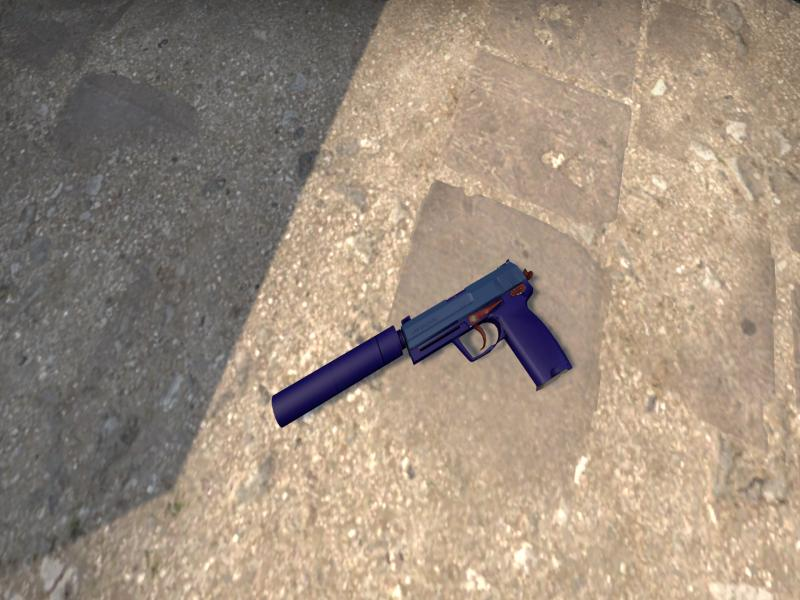USP: (272, 258, 572, 427)
